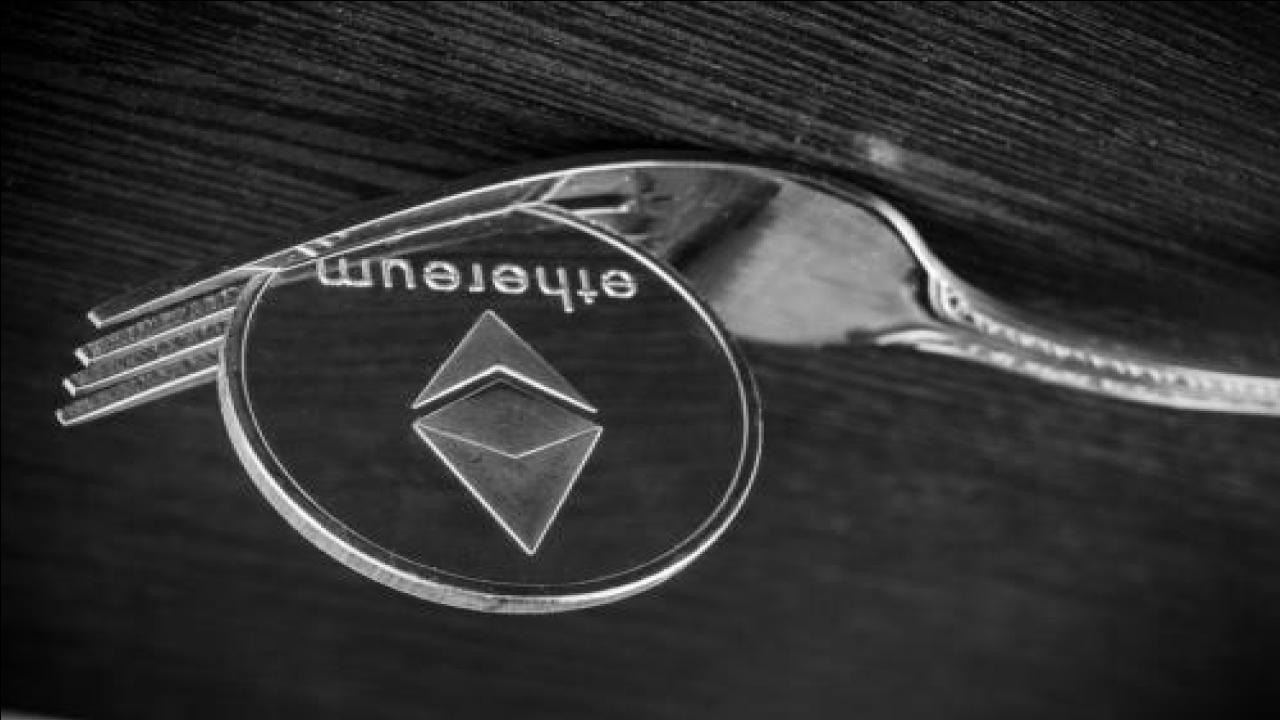fork: (54, 152, 1280, 432)
